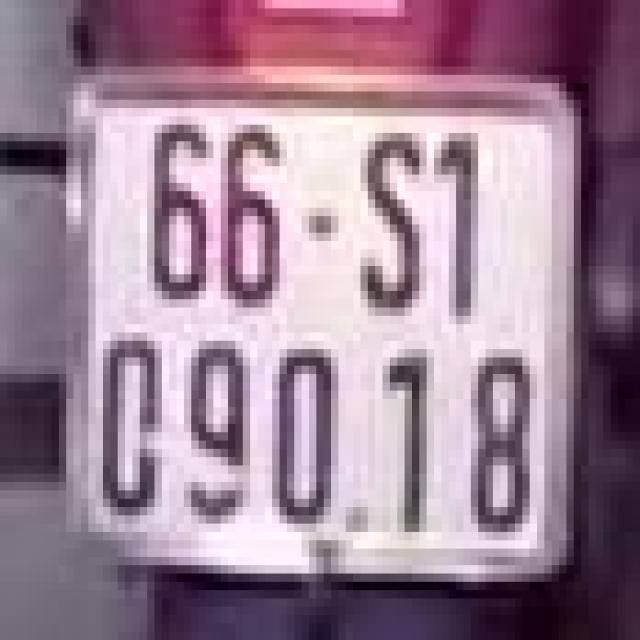0: (269, 328, 342, 528), (92, 332, 165, 516)
1: (430, 104, 490, 337), (379, 341, 438, 532)
6: (136, 112, 217, 312), (213, 116, 294, 316)
8: (463, 349, 537, 549)
9: (180, 332, 254, 532)
S: (357, 116, 423, 332)
